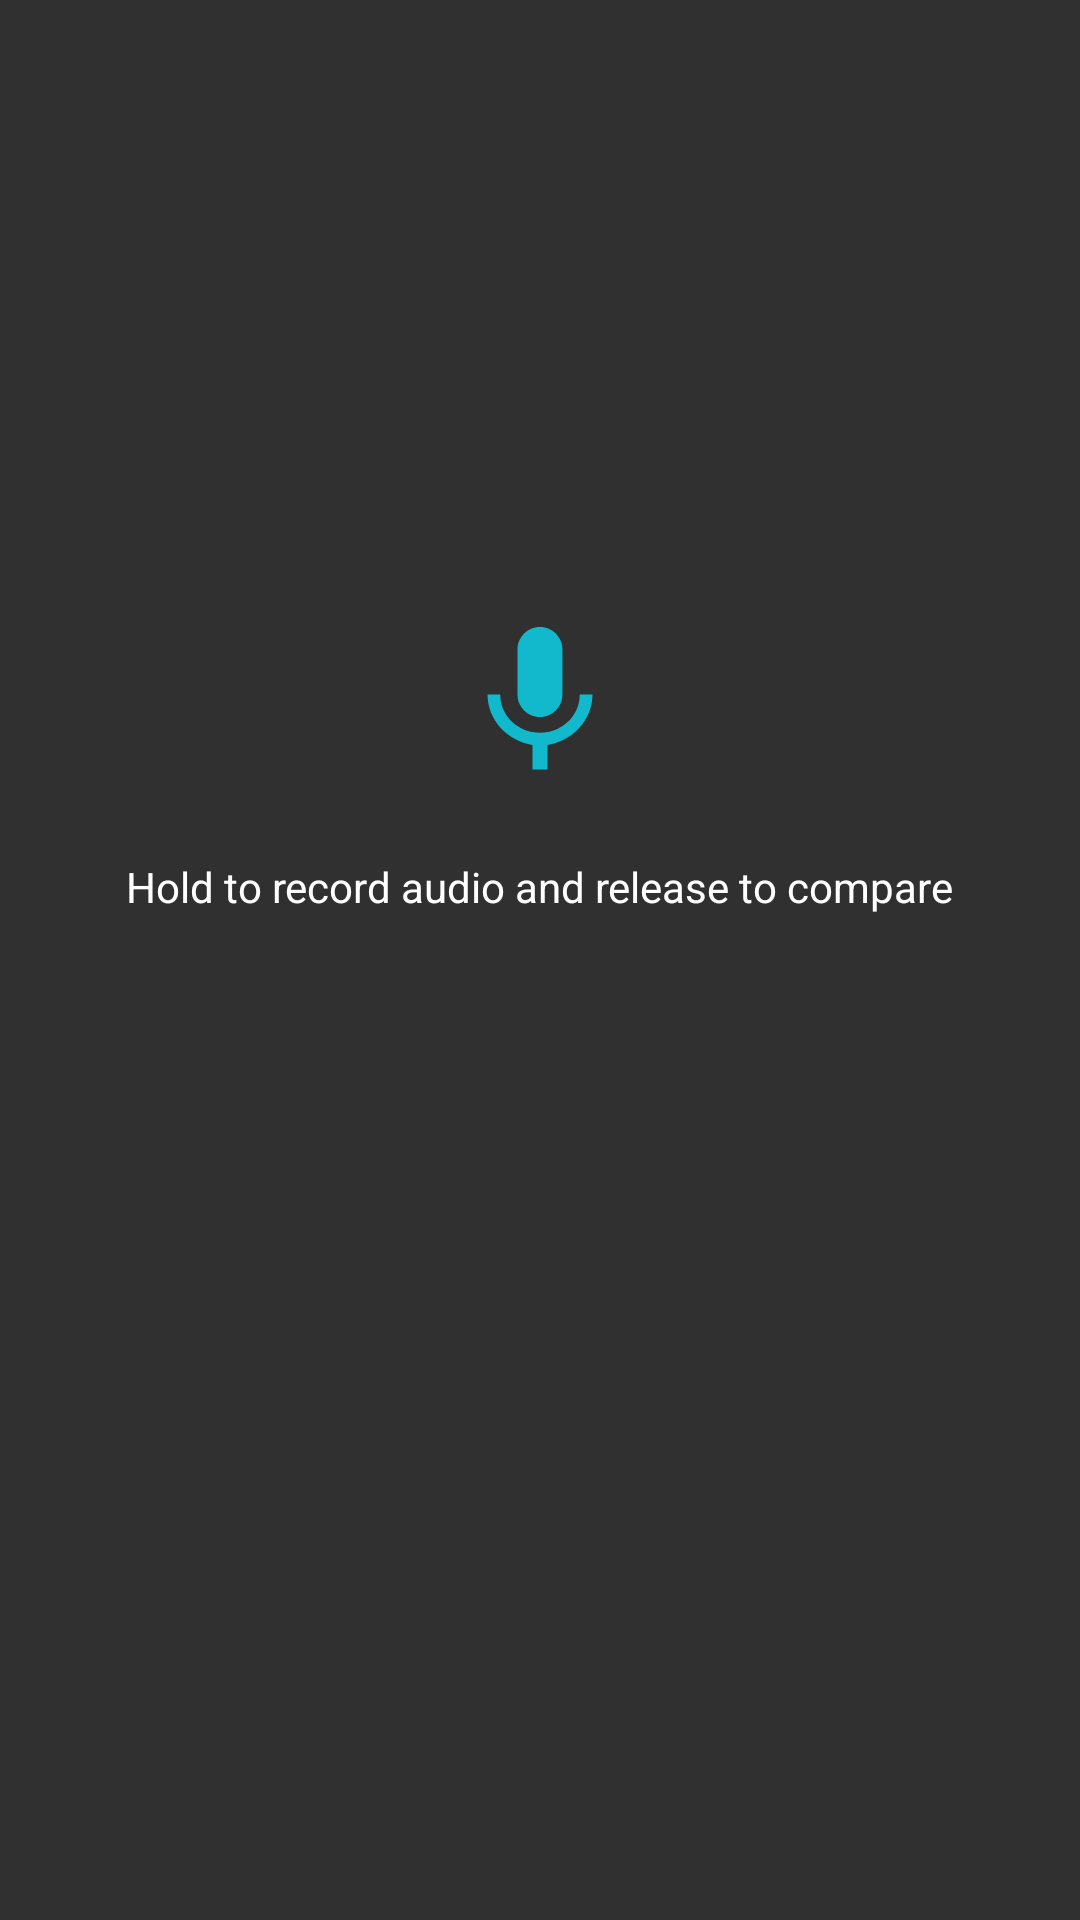

Screen size 1080×1920. Icon name, then its box in pixels as (x1, y1, x2, y2):
mic: (487, 627, 593, 770)
